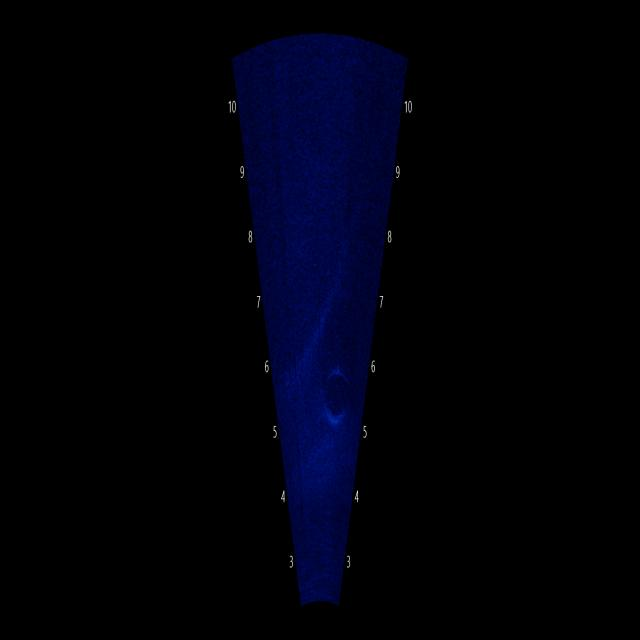circle: (322, 354, 354, 436)
